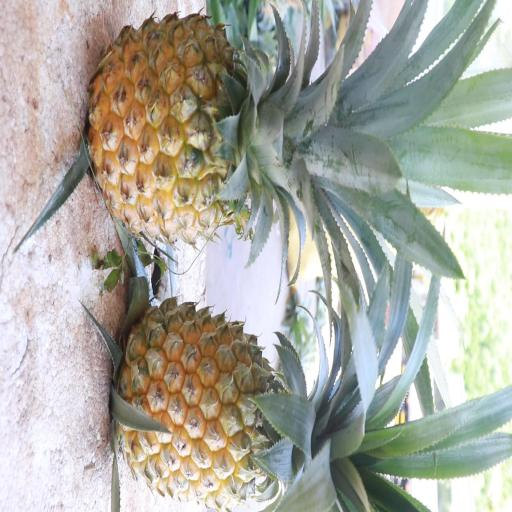Pineapple - v8 v1: (85, 6, 324, 254), (111, 289, 356, 511)
